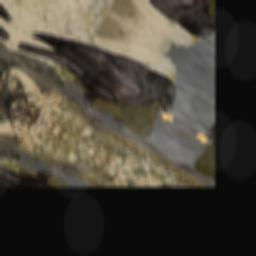Crow: (0, 0, 190, 161)
